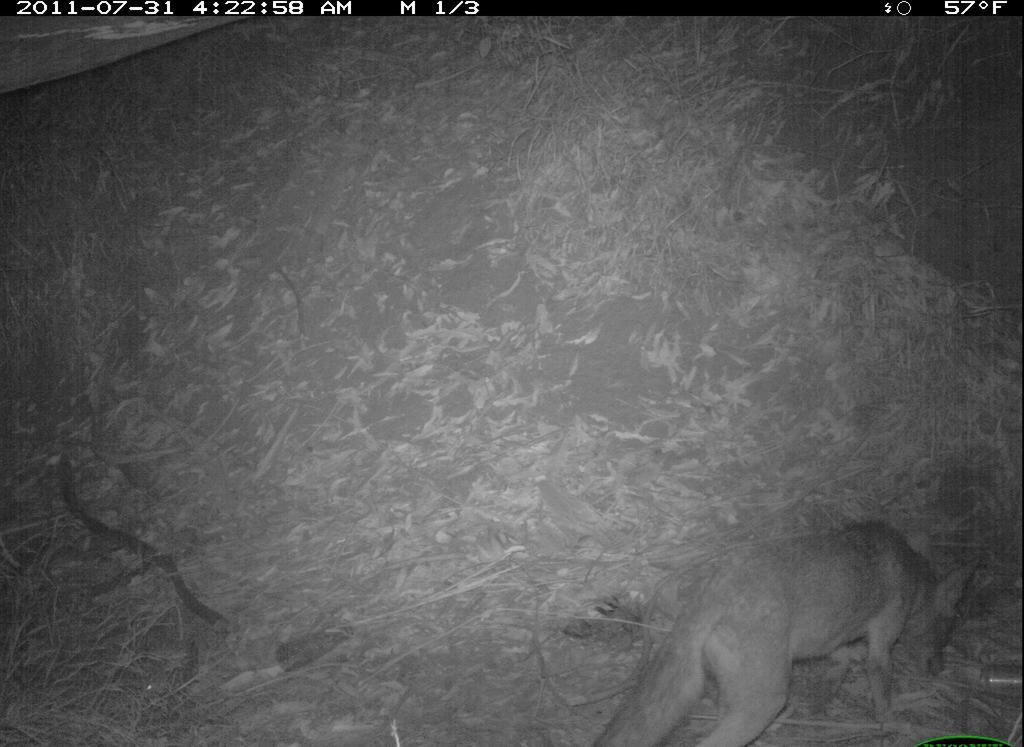coyote: (642, 500, 984, 747)
